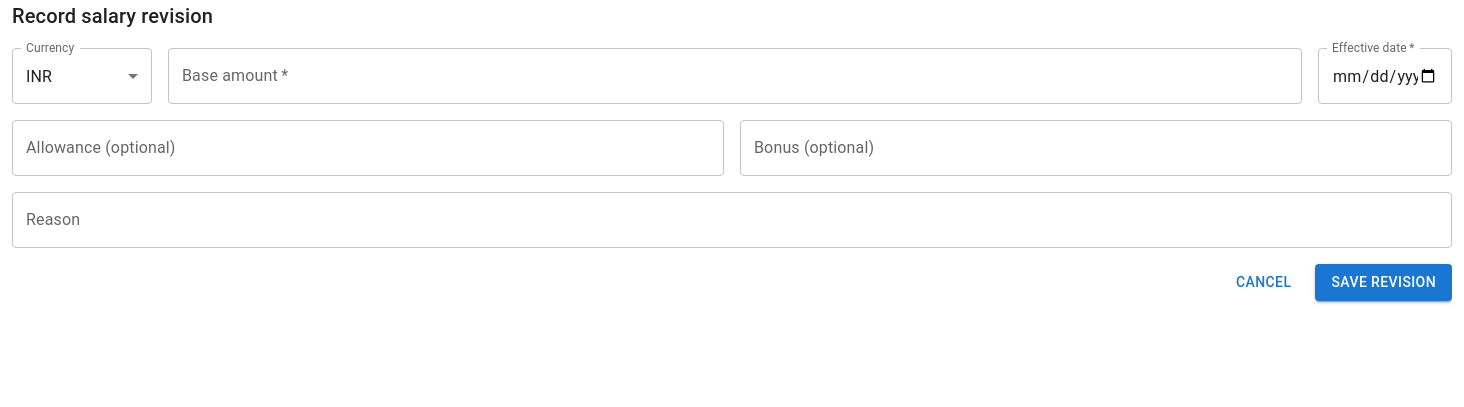
RevisionForm › shows the server's message under the field it belongs to
Expected: the dropdown "INR" is shown, 26,66 -> 52,86
Type "1000.005" into the field labelled "Base amount *" at (735, 76), box 168,48 -> 1302,104
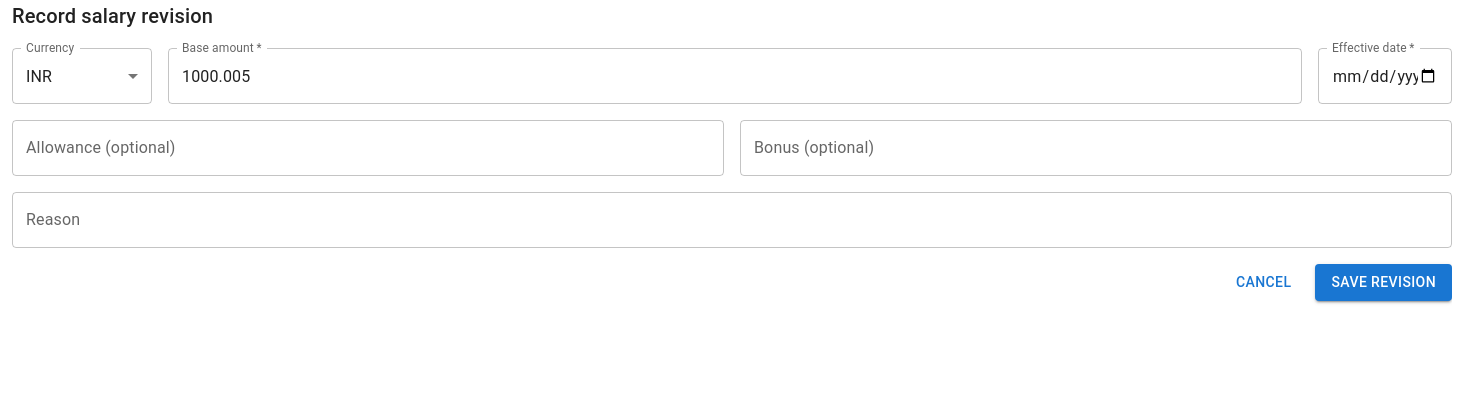
Type "2026-04-01" into the date field labelled "Effective date *" at (1385, 76), box 1318,48 -> 1452,104
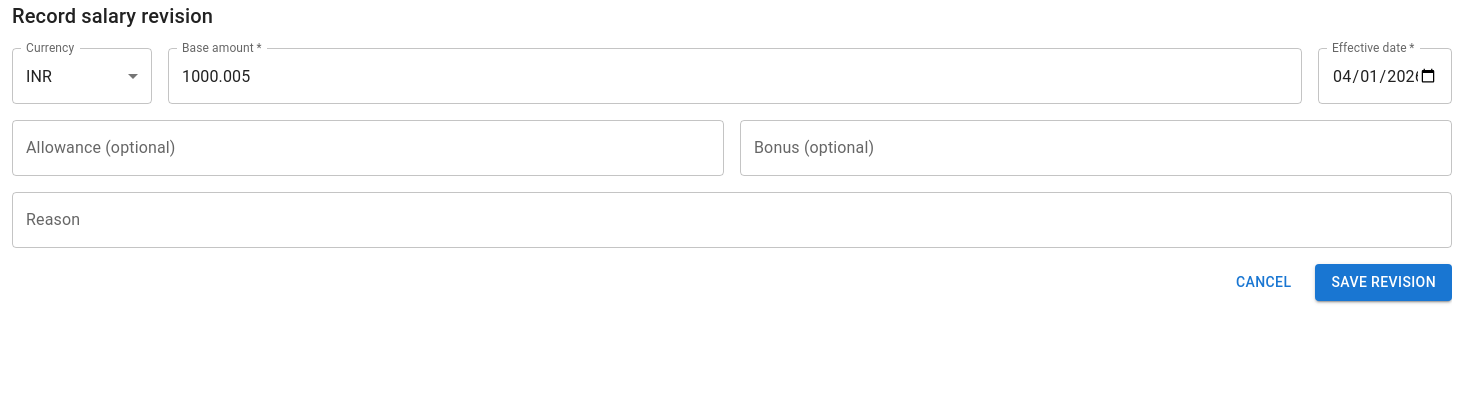
Click the button "Save revision" at (1384, 282), box 1315,264 -> 1452,300
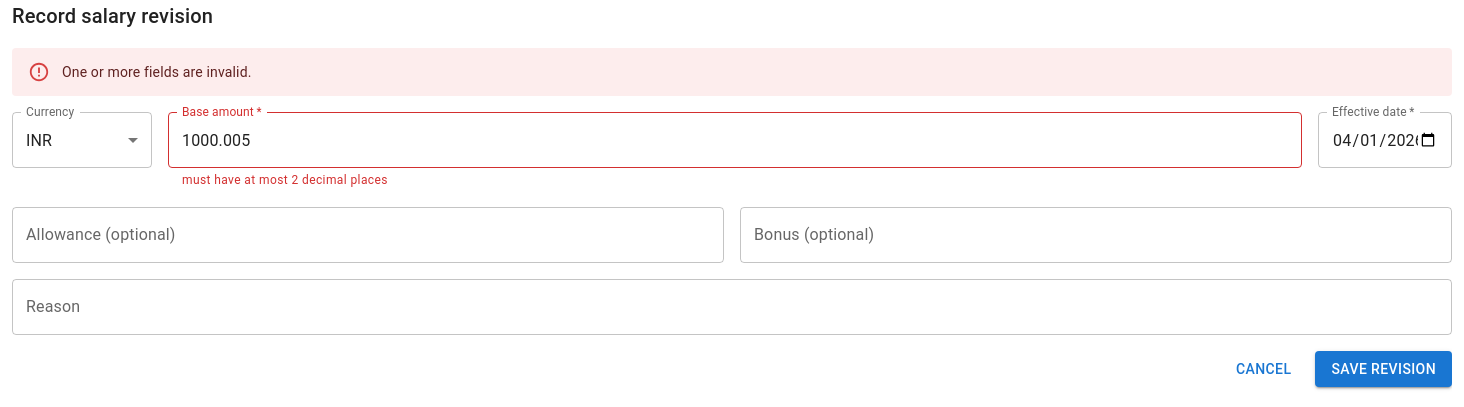
Now the text "must have at most 2 decimal places" is shown, box 182,173 -> 388,187
